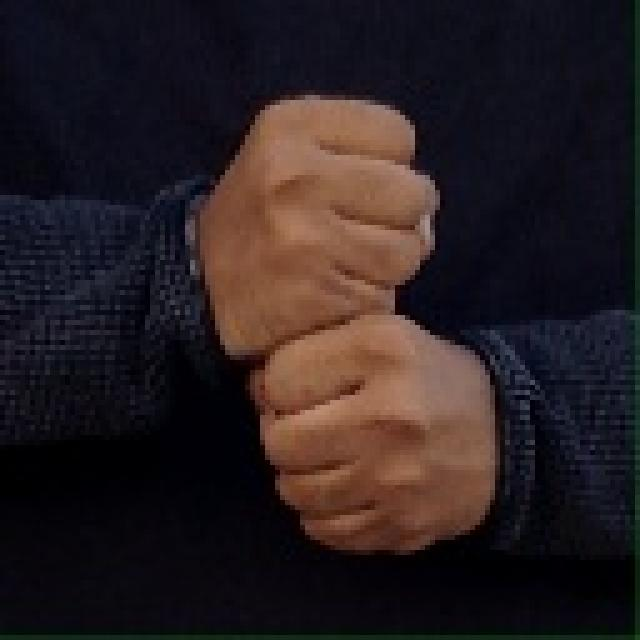G: (208, 94, 493, 556)
